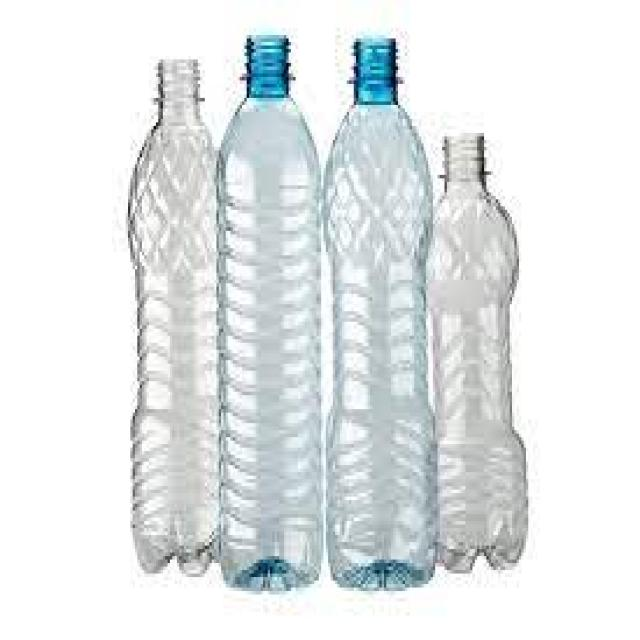bottom: (331, 498, 435, 598), (218, 507, 327, 597), (124, 515, 224, 589), (440, 502, 533, 578)
no_cap: (338, 27, 411, 106), (230, 28, 301, 105), (147, 58, 207, 125), (432, 132, 497, 192)
